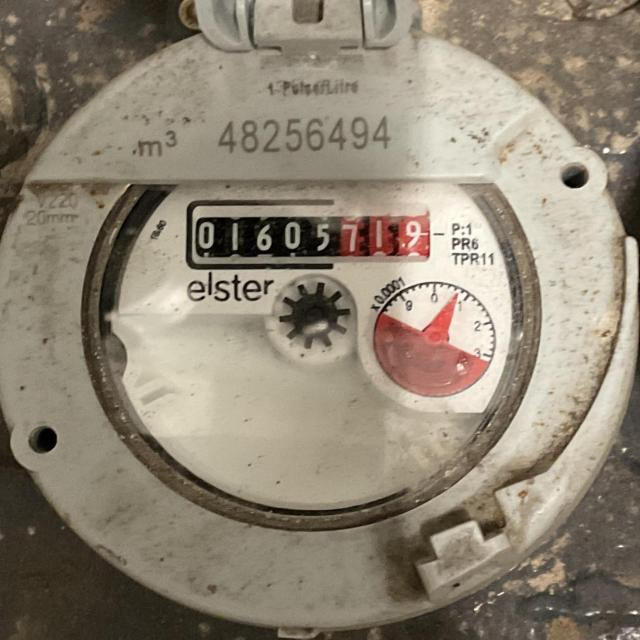gaz_meter: (103, 180, 519, 511)
indication: (189, 208, 430, 261)
